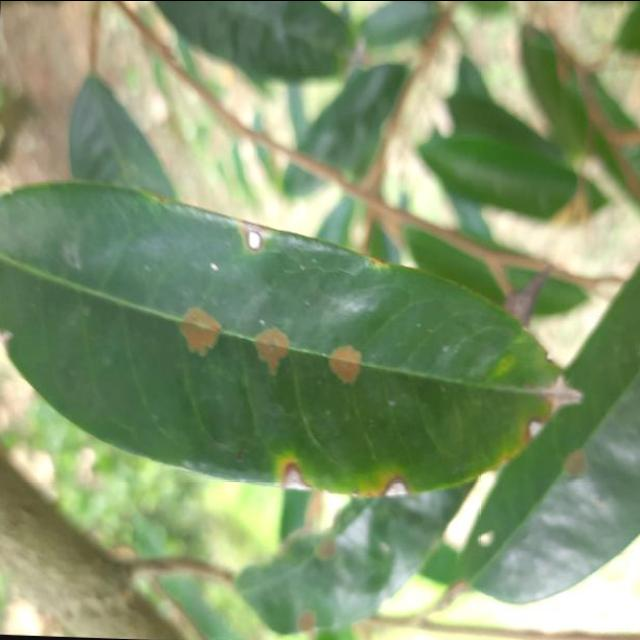Algal Leaf Spot: (0, 173, 604, 510)
